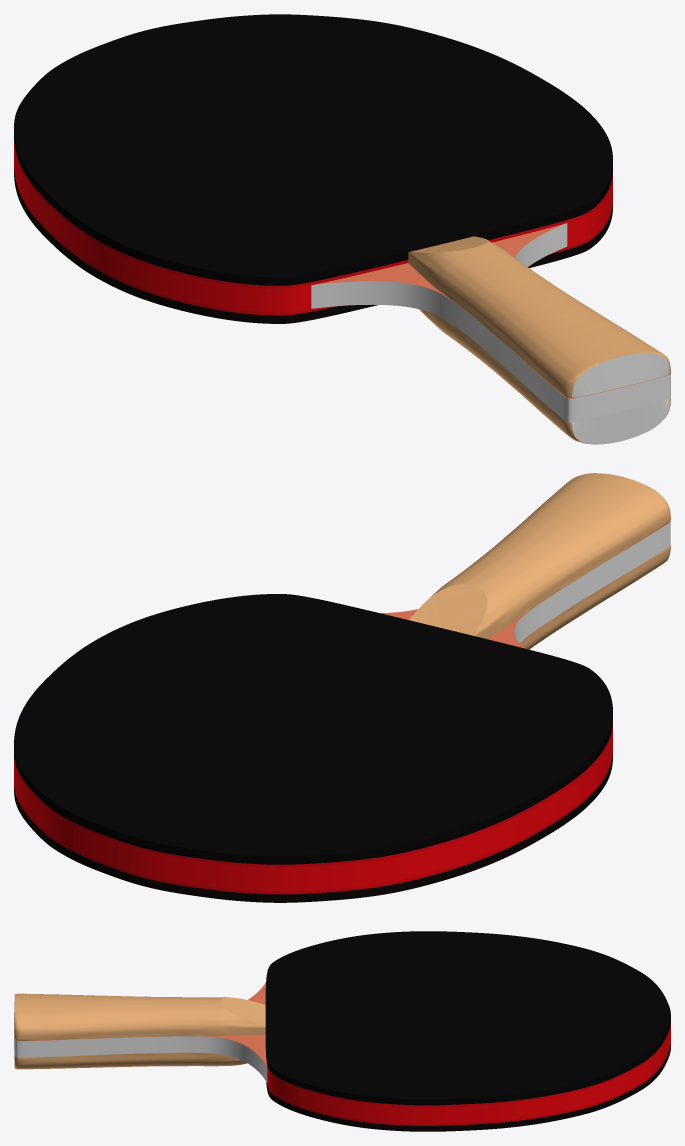
The model's file is racket-2.glb.
3 renders of one model, top to bottom at view 1: azimuth 30°, elevation 25°; view 2: azimuth 150°, elevation 25°; view 3: azimuth 270°, elevation 25°, orthographic. The views are drawn at different scales.
Visible parts, largest first — view 1: head-layer_red2.000_Plane.002, handle1.001_Plane.009, handle.001_Plane.029, head-wood.000_Plane.001, handle1.000_Plane.022, head-layer_red2.001_Plane.023, head-layer_red2.002_Plane.024, head-layer_red2.003_Plane.025; view 2: head-layer_red2.000_Plane.002, handle1.001_Plane.009, head-wood.000_Plane.001, head-layer_red2.001_Plane.023, handle.001_Plane.029, head-layer_red2.002_Plane.024, head-layer_red2.003_Plane.025, handle1.000_Plane.022; view 3: head-layer_red2.000_Plane.002, handle1.001_Plane.009, head-wood.000_Plane.001, handle.001_Plane.029, handle1.000_Plane.022, head-layer_red2.001_Plane.023, head-layer_red2.003_Plane.025, head-layer_red2.002_Plane.024.
Boxes of the visible parts, x1,y1,x2,y2 form: head-layer_red2.000_Plane.002: (14,14,612,285); handle1.001_Plane.009: (408,236,670,398); handle.001_Plane.029: (311,223,670,422); head-wood.000_Plane.001: (14,142,612,312); handle1.000_Plane.022: (419,309,670,444); head-layer_red2.001_Plane.023: (14,169,612,323); head-layer_red2.002_Plane.024: (14,139,612,288); head-layer_red2.003_Plane.025: (14,167,612,315); head-layer_red2.000_Plane.002: (14,594,612,864); handle1.001_Plane.009: (409,473,670,638); head-wood.000_Plane.001: (14,727,612,891); head-layer_red2.001_Plane.023: (14,754,612,902); handle.001_Plane.029: (381,521,670,648); head-layer_red2.002_Plane.024: (14,724,612,867); head-layer_red2.003_Plane.025: (14,750,612,894); handle1.000_Plane.022: (520,545,670,649); head-layer_red2.000_Plane.002: (265,931,670,1105); handle1.001_Plane.009: (14,993,265,1040); head-wood.000_Plane.001: (267,1026,670,1123); handle.001_Plane.029: (14,982,267,1082); handle1.000_Plane.022: (14,1048,246,1069); head-layer_red2.001_Plane.023: (266,1044,670,1131); head-layer_red2.003_Plane.025: (267,1042,670,1125); head-layer_red2.002_Plane.024: (265,1023,670,1107).
Bounding box in the file's own units: 0.1537 × 0.0252 × 0.2541.
